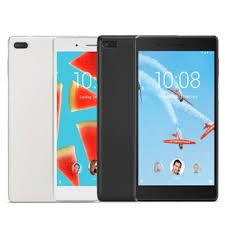lenovo: (131, 33, 221, 205)
